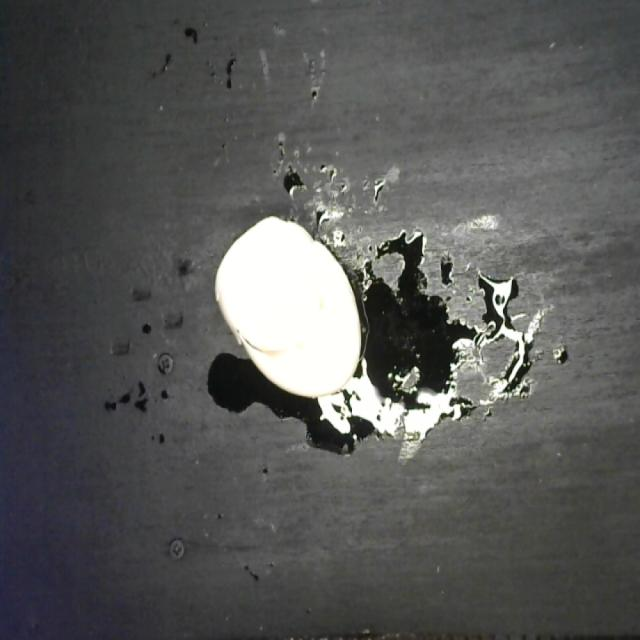biodegradable: (214, 212, 364, 399)
